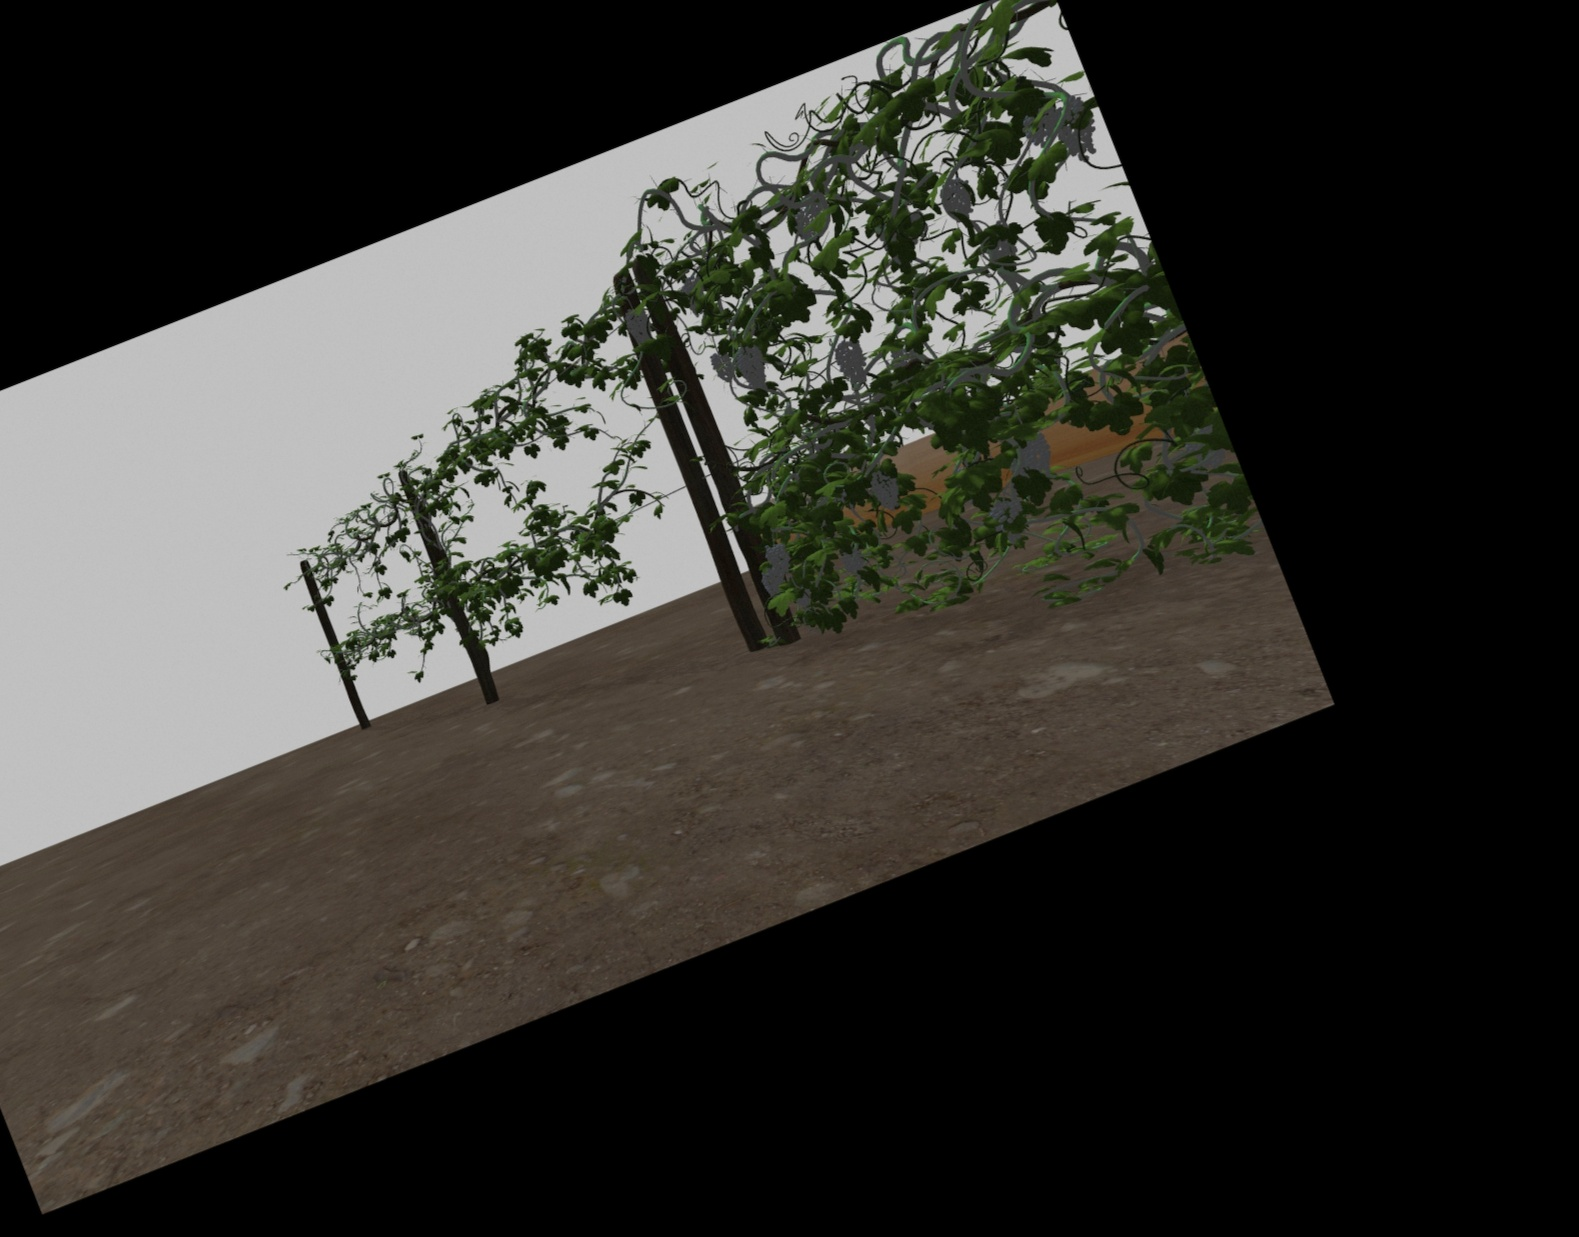grape: (1059, 99, 1095, 159), (1021, 112, 1062, 144), (839, 338, 866, 387), (1021, 433, 1052, 476), (740, 347, 766, 390), (873, 469, 898, 509), (943, 179, 969, 218), (628, 306, 651, 346), (992, 492, 1020, 520), (768, 544, 789, 574), (763, 568, 786, 596), (713, 350, 733, 381), (843, 549, 865, 577)
